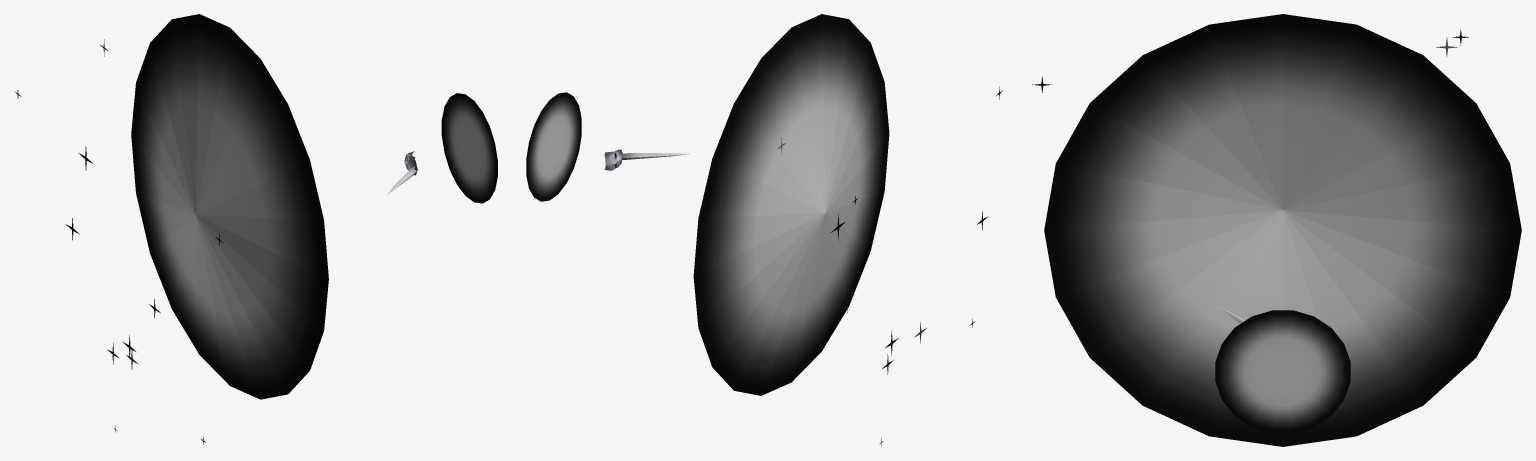
3 renders of one model, left to right at view 1: azimuth 30°, elevation 25°; view 2: azimuth 150°, elevation 25°; view 3: azimuth 270°, elevation 25°, orthographic. The views are drawn at different scales.
Parts seen in each view (by area): view 1: B_0156_1a_1; view 2: B_0156_1a_1, B_0156_1a_0; view 3: B_0156_1a_1.
Boxes of the visible parts, box(x1,y1,x2,y2) form: B_0156_1a_1: box(14, 14, 497, 444); B_0156_1a_1: box(526, 14, 1003, 446); B_0156_1a_0: box(604, 149, 689, 170); B_0156_1a_1: box(1032, 14, 1521, 446).
Size of the model in its own units: 5.96 by 5.87 by 5.54.
Materials: 2 (2 with a texture image).
